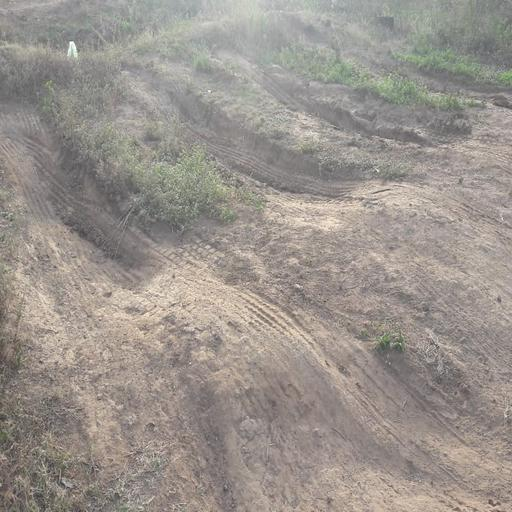vehicle_track: (0, 101, 512, 512), (165, 95, 512, 390)
